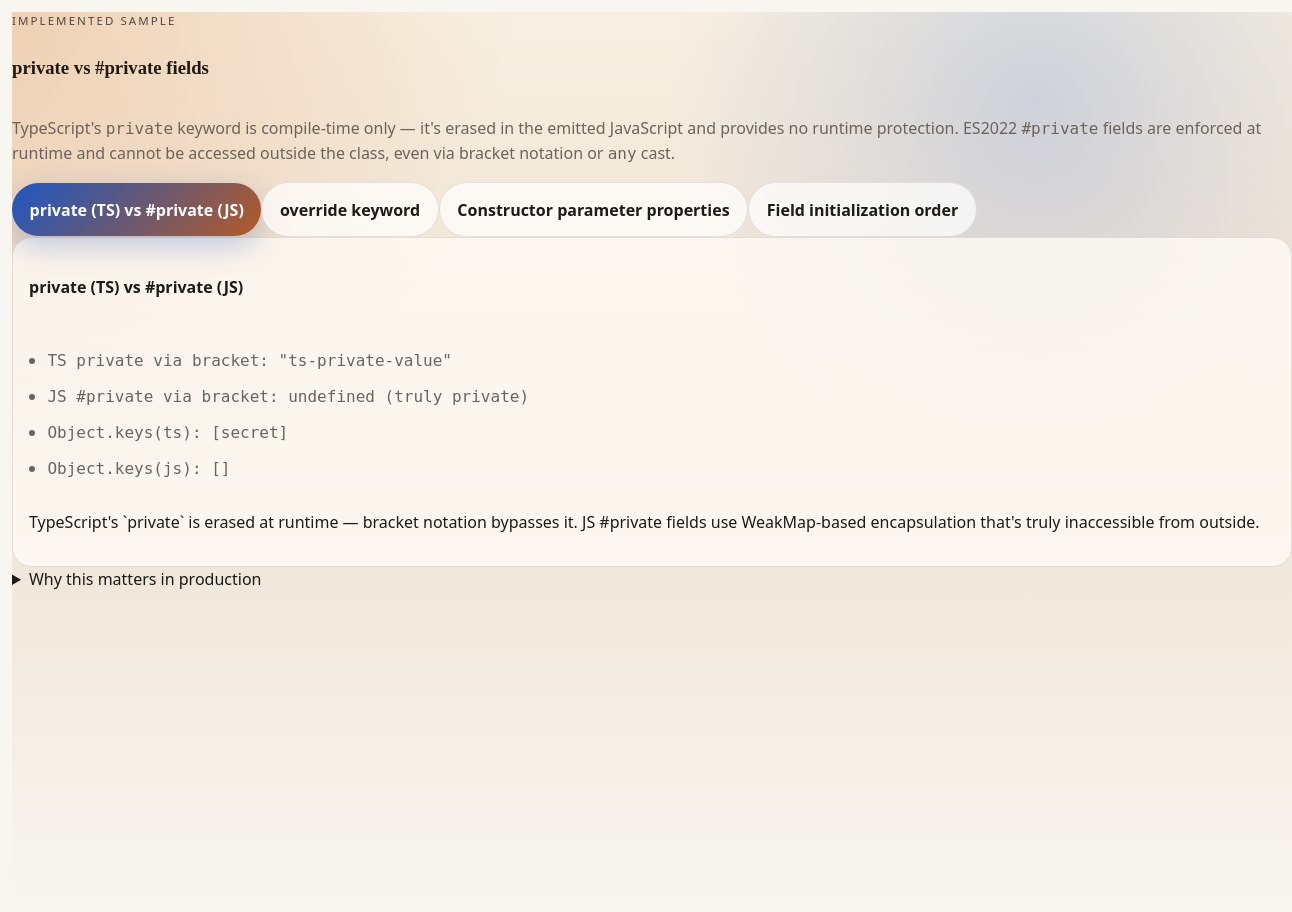
Test: private fields sample › switches to other class feature sections
Click the button "override keyword": x=350, y=210 261,182 -> 439,237
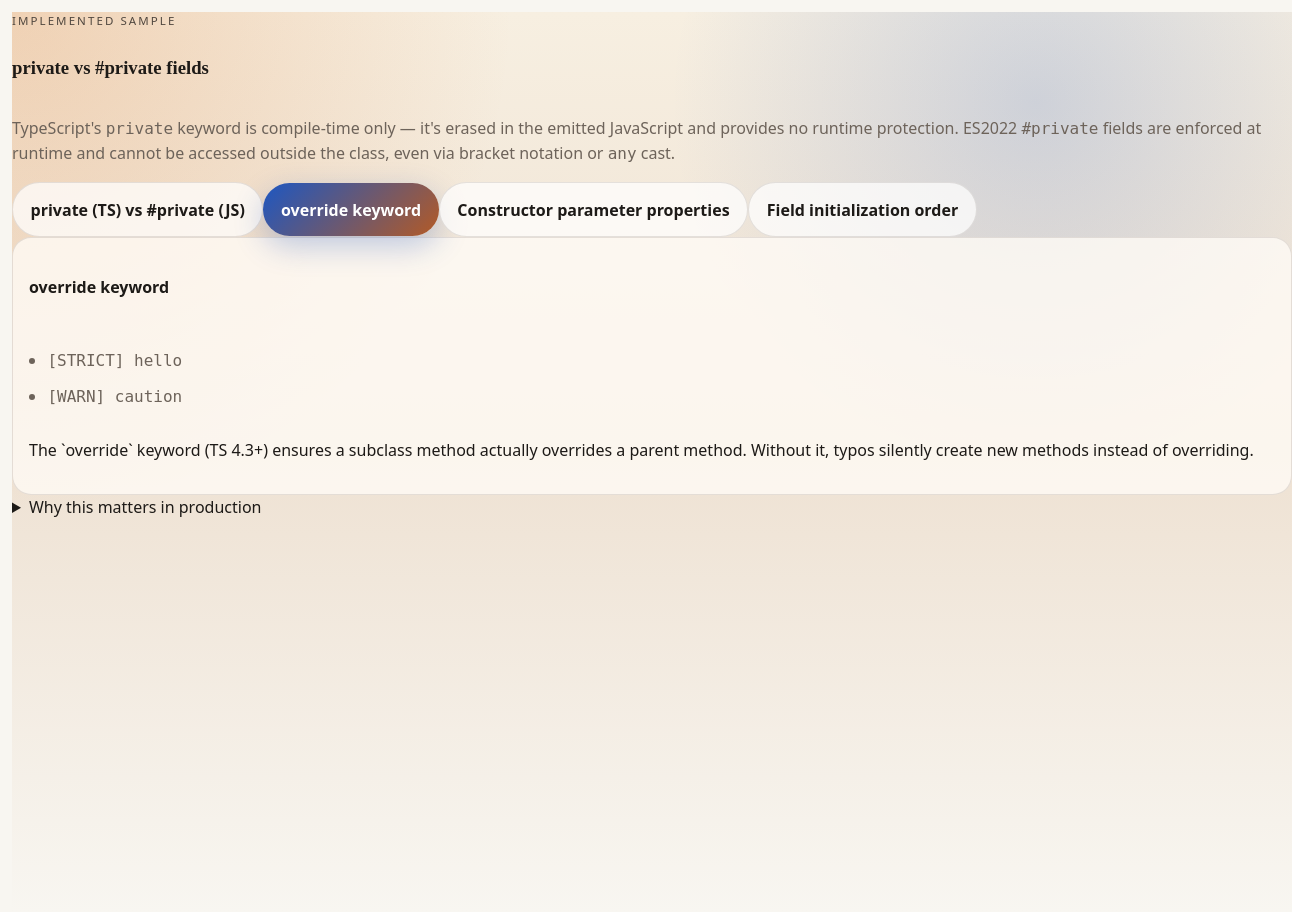
Check: the heading "override keyword" is shown, box 29,276 -> 169,298
Check: the text "[STRICT] hello" is shown, box 47,351 -> 182,370
Check: the text "[WARN] caution" is shown, box 47,387 -> 182,406
Click the button "Field initialization order": x=862, y=210 748,182 -> 977,237
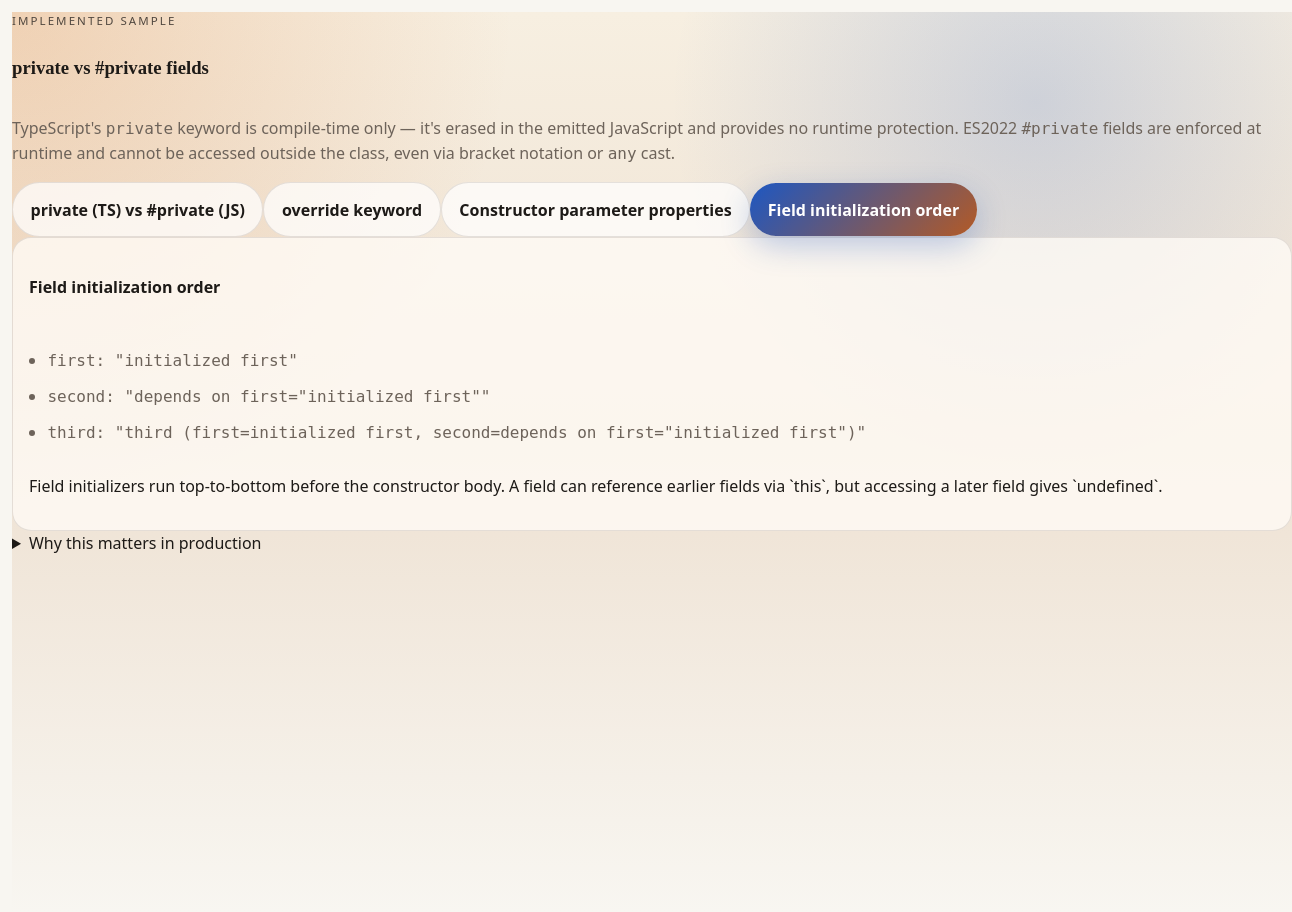
Check: the heading "Field initialization order" is shown, box 29,276 -> 220,298
Check: the text "first: \"initialized first\"" is shown, box 47,351 -> 298,370
Check: the text "second: \"depends on first=\"initialized first\"\"" is shown, box 47,387 -> 490,406
